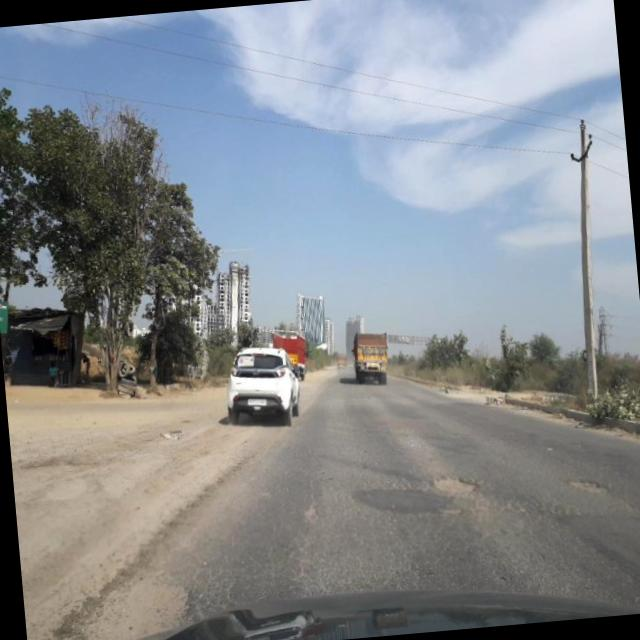crack: (175, 440, 640, 607)
pothole: (20, 551, 193, 640), (418, 462, 488, 508), (562, 459, 632, 505)
